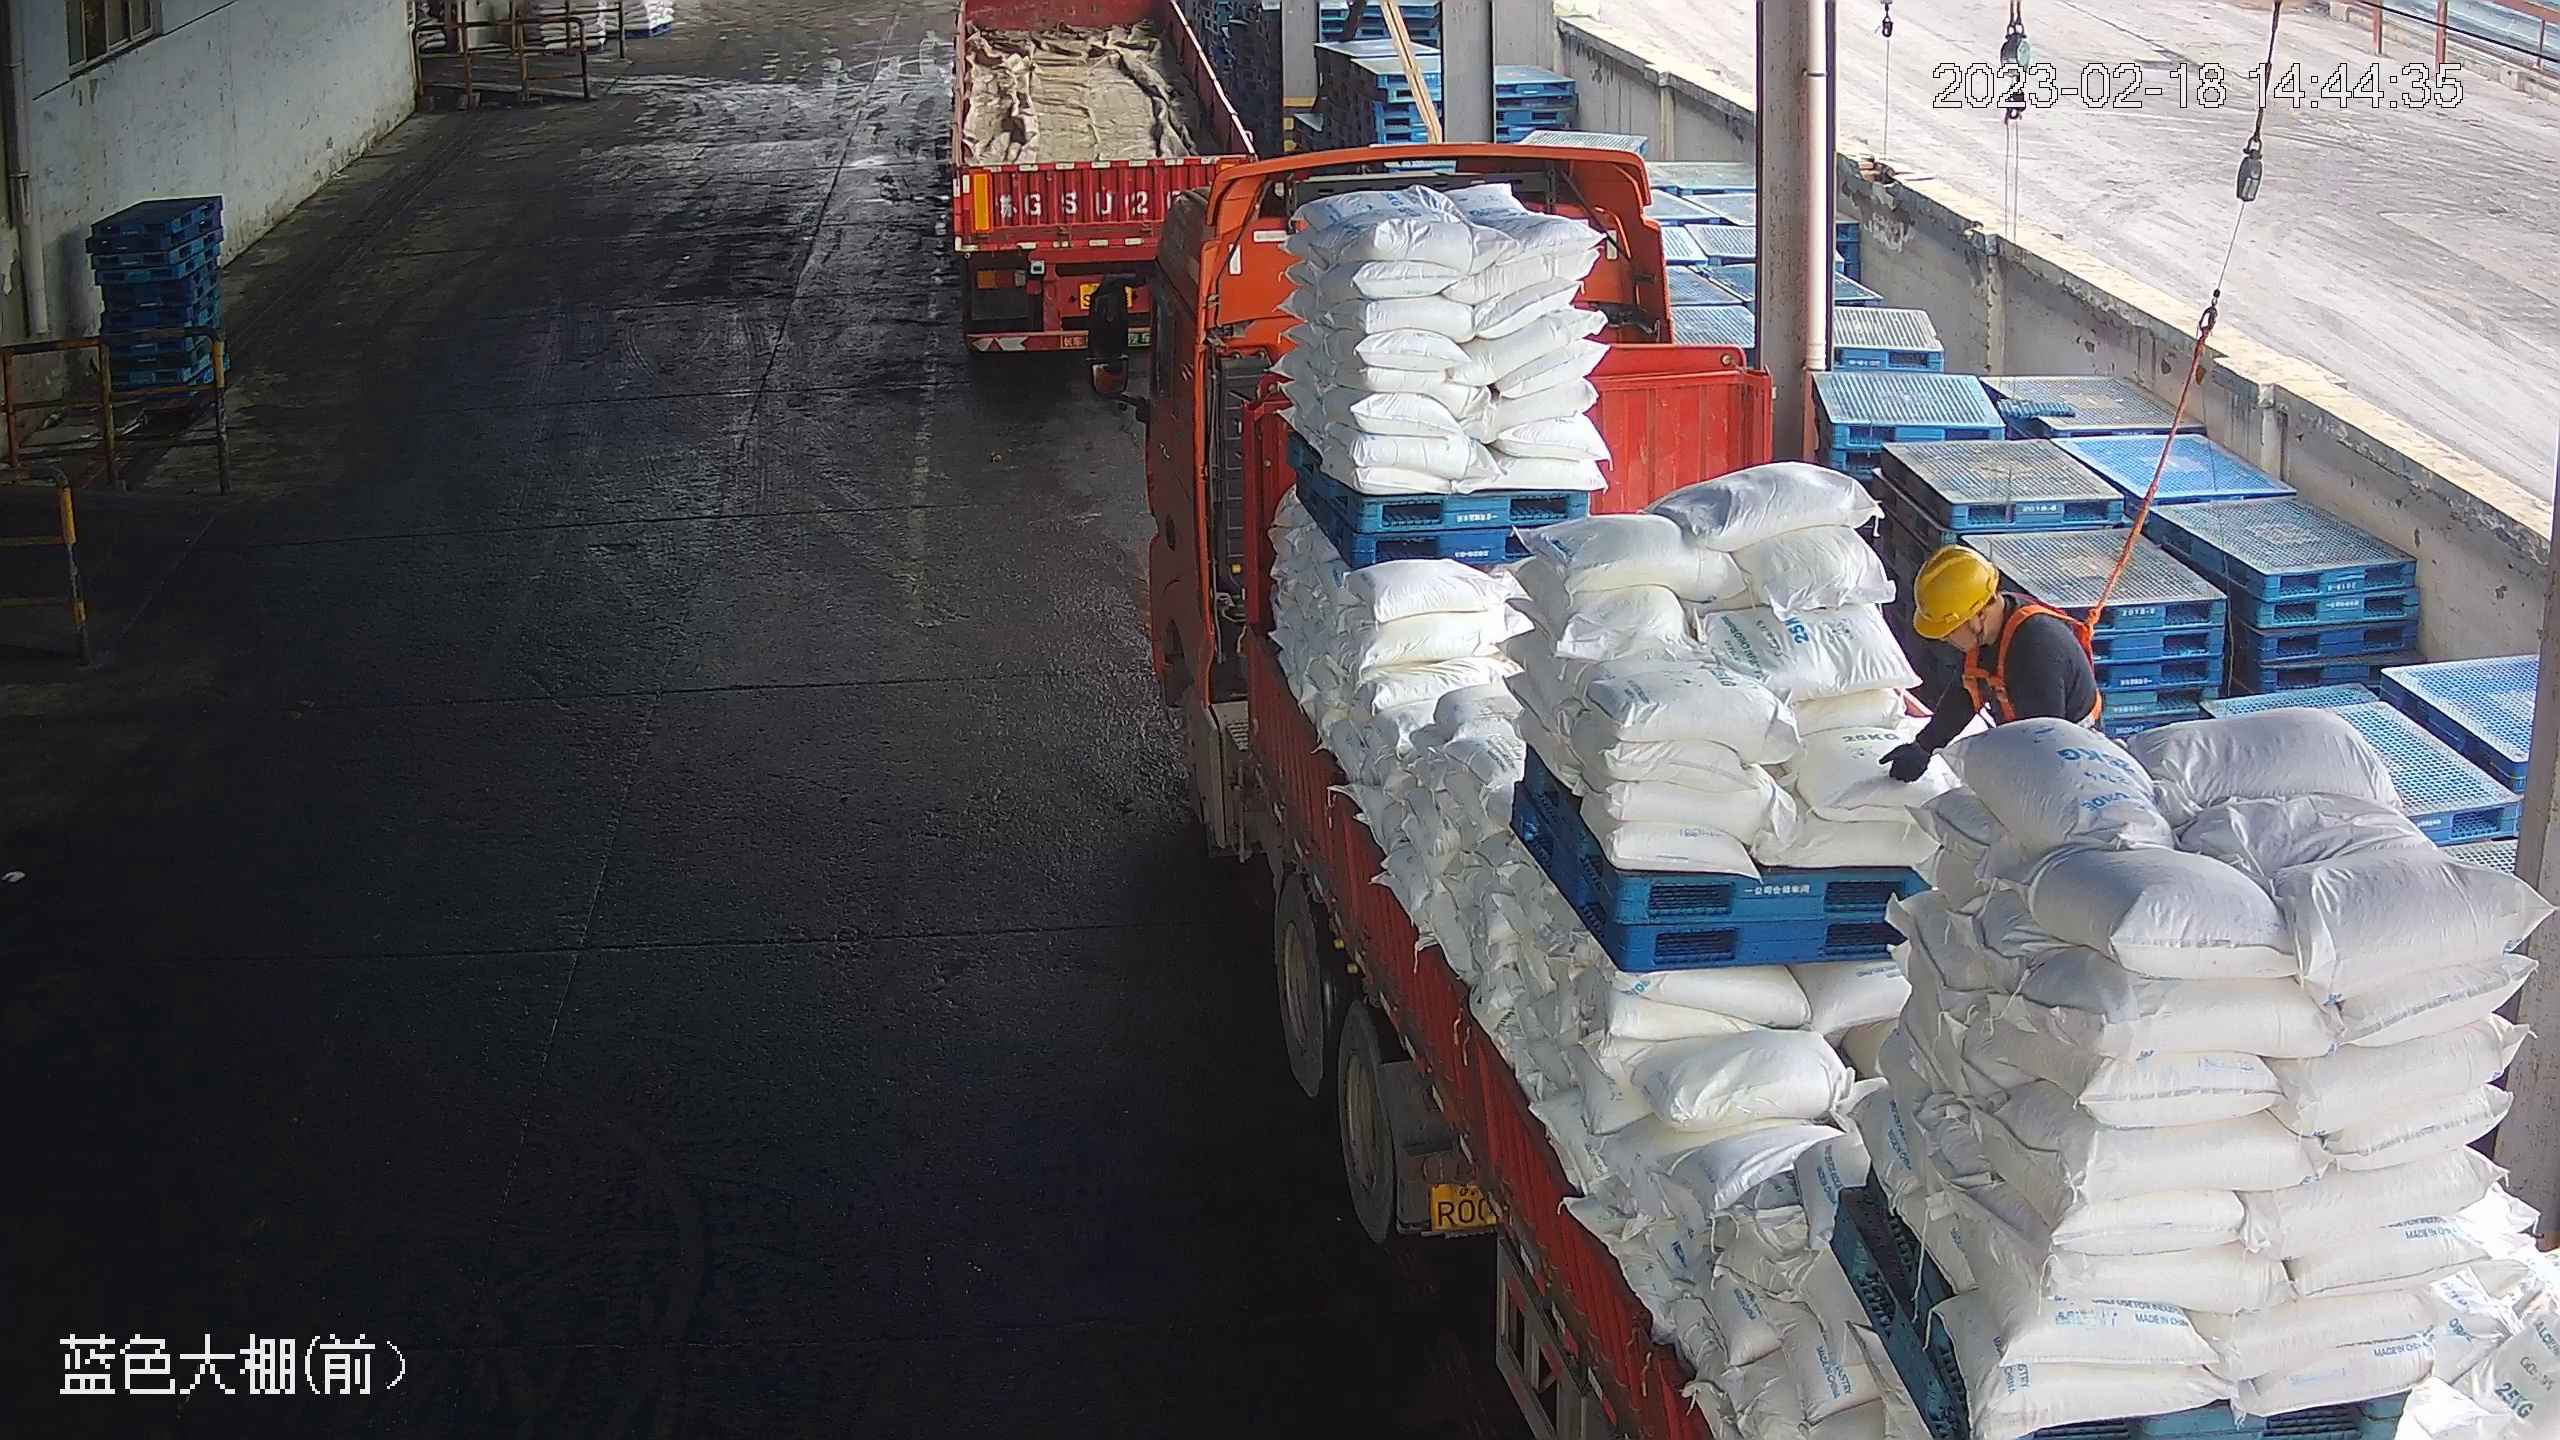belt: (1959, 601, 2105, 730)
head: (1906, 540, 2085, 687)
helmet: (1907, 540, 2001, 637)
truck: (1087, 139, 2555, 1437), (945, 2, 1258, 355)
